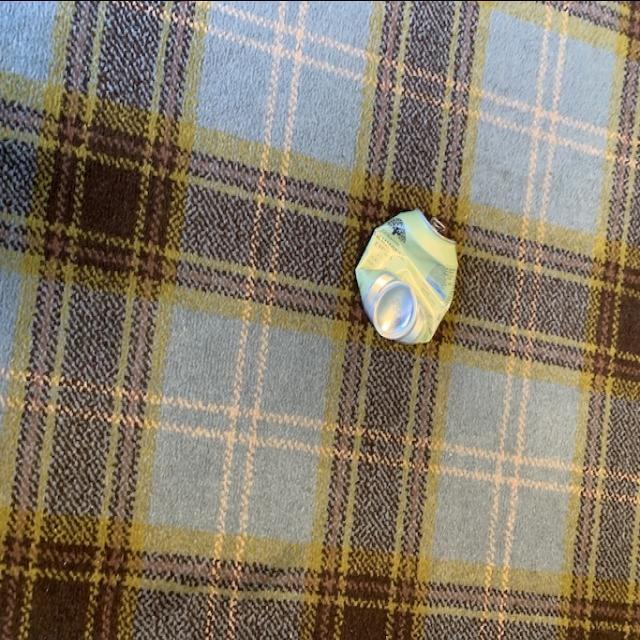litter: (356, 208, 464, 348)
